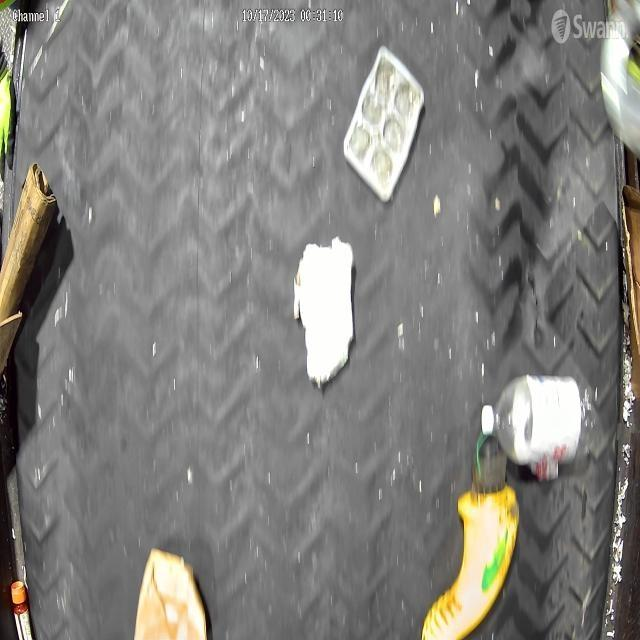plastic_bottle: (484, 374, 590, 476)
